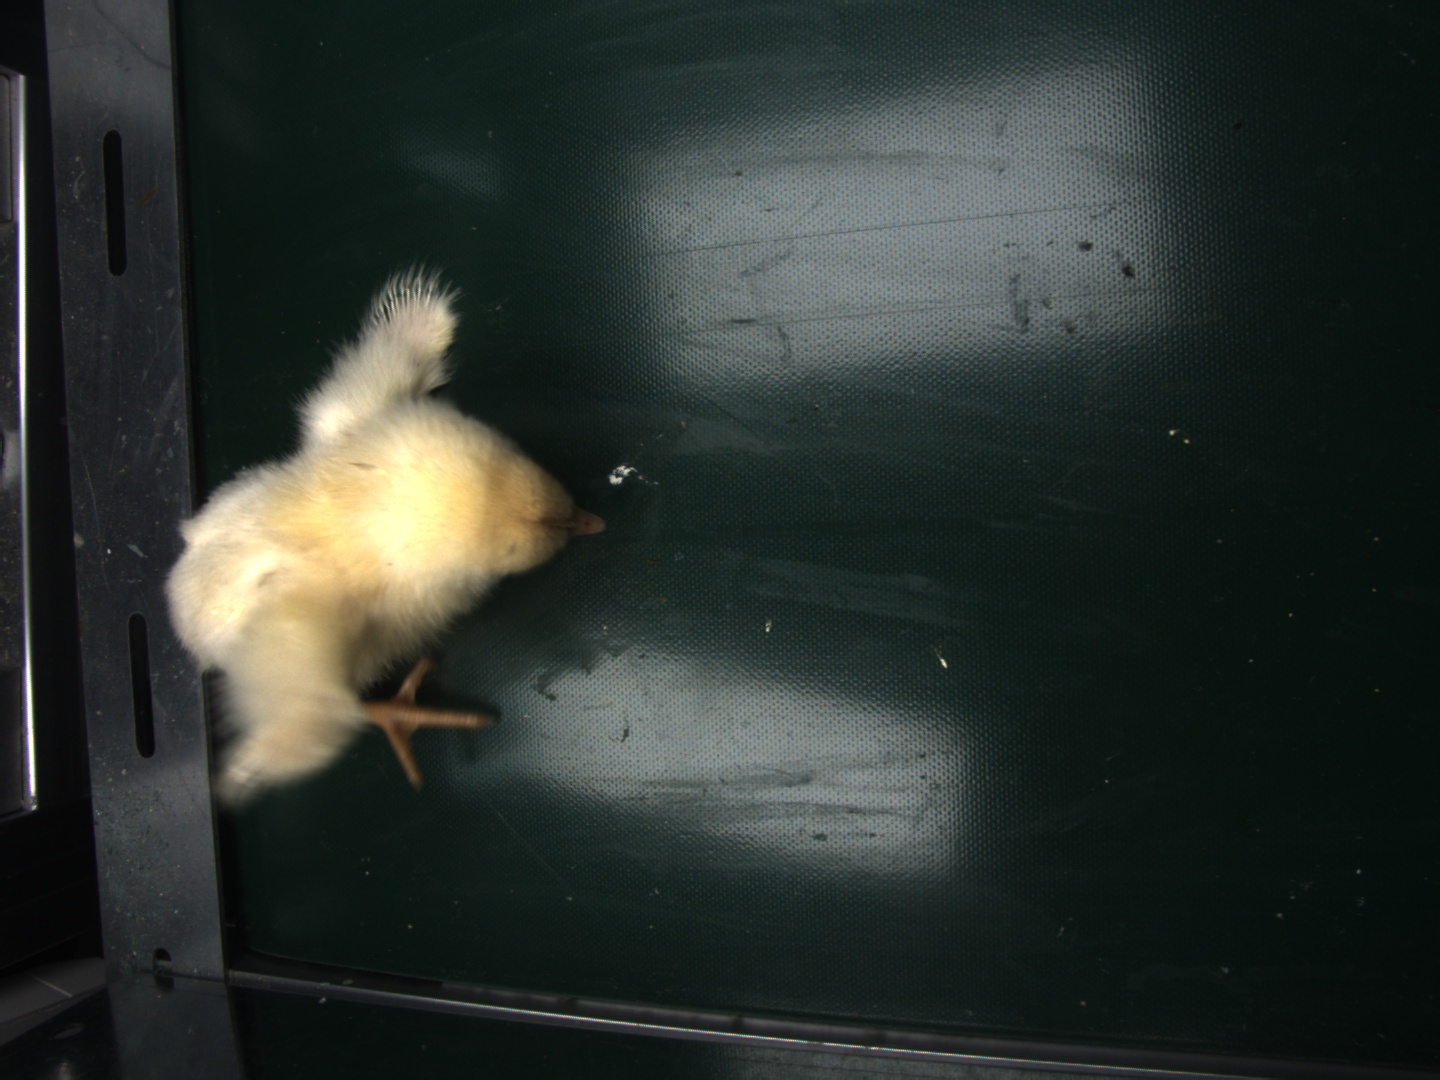male: (374, 284, 442, 328)
